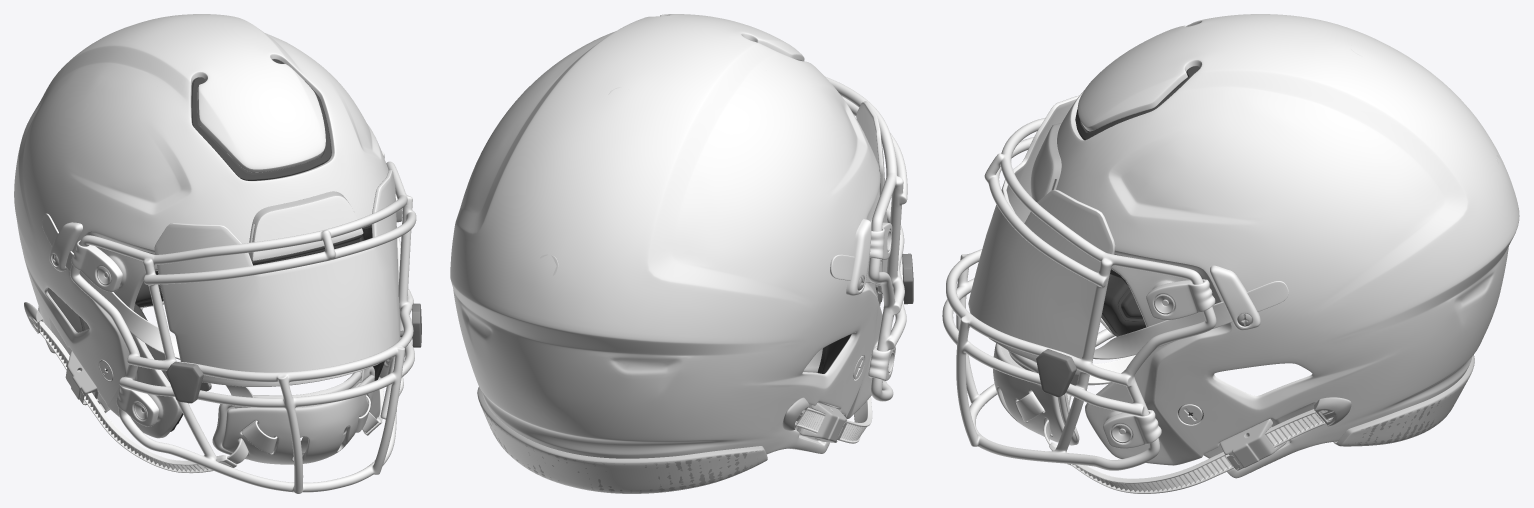
The model's file is SpeedFlex-draco.glb.
3 views of the same model, side by side, from view 1: azimuth 30°, elevation 25°; view 2: azimuth 150°, elevation 25°; view 3: azimuth 270°, elevation 25° (orthographic). The views are drawn at different scales.
Visible parts, largest first — view 1: Decal Surface, Visor, Facemask, Straps, Shell, Chin Guard - Inner, Inner Pads, Facemask Clips, Visor Clips, Chin Guard - Outer, Strap Clips - Lower, Strap Clips - Upper (+1 smaller); view 2: Decal Surface, Facemask, Bumpers, Shell, Straps, Strap Clips - Lower, Facemask Clips, Visor, Strap Clips - Upper, Visor Clips, Inner Pads; view 3: Decal Surface, Facemask, Visor, Shell, Straps, Facemask Clips, Inner Pads, Chin Guard - Inner, Strap Clips - Lower, Bumpers, Strap Clips - Upper, Visor Clips (+2 smaller).
Part boxes in pixels (left/top/right/bottom): Decal Surface: left=14, top=14, right=388, bottom=405; Visor: left=154, top=169, right=400, bottom=386; Facemask: left=70, top=161, right=416, bottom=493; Straps: left=37, top=213, right=383, bottom=473; Shell: left=44, top=53, right=392, bottom=438; Chin Guard - Inner: left=222, top=375, right=374, bottom=464; Inner Pads: left=47, top=59, right=384, bottom=431; Facemask Clips: left=71, top=194, right=405, bottom=426; Visor Clips: left=166, top=303, right=421, bottom=403; Chin Guard - Outer: left=212, top=366, right=374, bottom=459; Strap Clips - Lower: left=24, top=302, right=98, bottom=405; Strap Clips - Upper: left=49, top=151, right=384, bottom=406; Decal Surface: left=450, top=14, right=880, bottom=493; Facemask: left=825, top=76, right=907, bottom=401; Bumpers: left=477, top=387, right=767, bottom=492; Shell: left=660, top=14, right=882, bottom=452; Straps: left=795, top=254, right=881, bottom=443; Strap Clips - Lower: left=782, top=397, right=846, bottom=442; Facemask Clips: left=868, top=222, right=895, bottom=381; Visor: left=856, top=101, right=887, bottom=293; Strap Clips - Upper: left=846, top=219, right=871, bottom=295; Visor Clips: left=875, top=253, right=913, bottom=305; Inner Pads: left=817, top=334, right=851, bottom=373; Decal Surface: left=1030, top=14, right=1519, bottom=478; Facemask: left=942, top=118, right=1216, bottom=470; Visor: left=968, top=95, right=1115, bottom=374; Shell: left=1070, top=21, right=1316, bottom=468; Straps: left=1015, top=281, right=1333, bottom=493; Facemask Clips: left=1103, top=279, right=1215, bottom=448; Inner Pads: left=1075, top=66, right=1203, bottom=419; Chin Guard - Inner: left=993, top=343, right=1064, bottom=442; Strap Clips - Lower: left=1219, top=397, right=1351, bottom=470; Bumpers: left=1046, top=123, right=1474, bottom=445; Strap Clips - Upper: left=1210, top=265, right=1260, bottom=330; Visor Clips: left=1036, top=349, right=1078, bottom=397.
Size of the model in its own units: 0.5489 by 0.5937 by 0.7687.
Materials: 14 (1 with a texture image).
